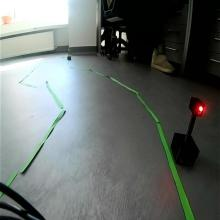red: (188, 94, 206, 118)
